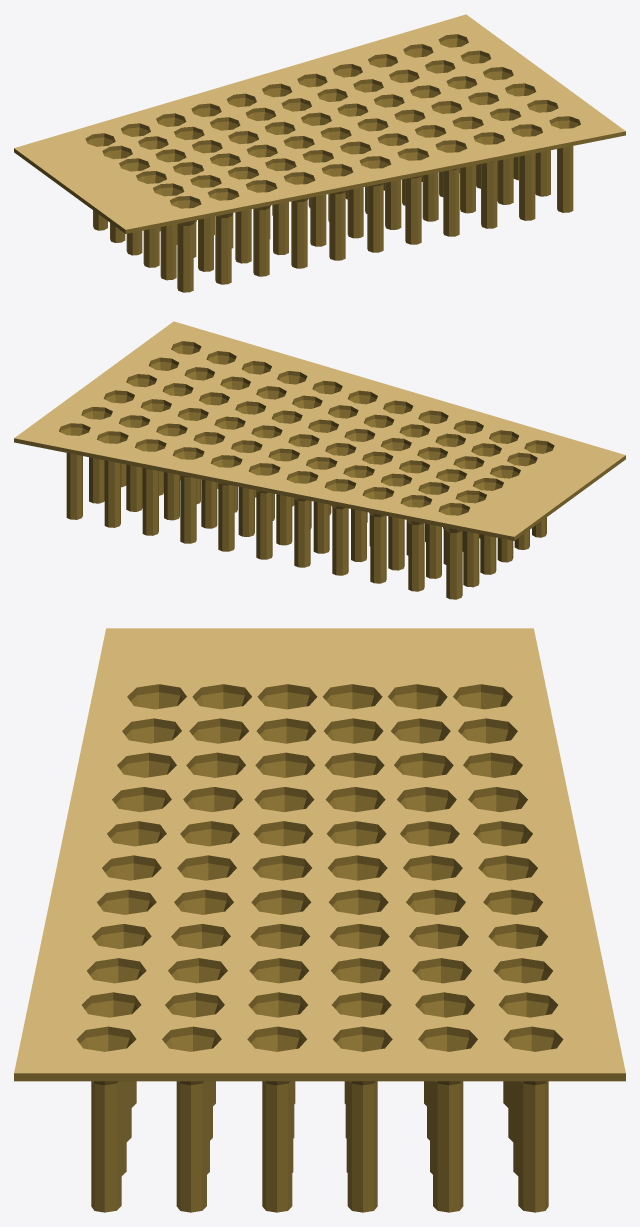
File: MizrakZemin.fbx
3 views of the same model, one above another, from view 1: azimuth 30°, elevation 25°; view 2: azimuth 150°, elevation 25°; view 3: azimuth 270°, elevation 25° (orthographic). The views are drawn at different scales.
Visible parts, largest first — view 1: Circle; view 2: Circle; view 3: Circle.
Boxes of the visible parts, bbox=[...] form: Circle: bbox=[14, 14, 625, 292]; Circle: bbox=[14, 321, 625, 599]; Circle: bbox=[14, 628, 625, 1212].
Size of the model in its own units: 600 by 105 by 349.
